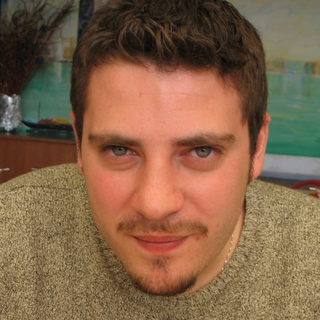eye: (168, 138, 227, 169), (92, 135, 146, 168)
